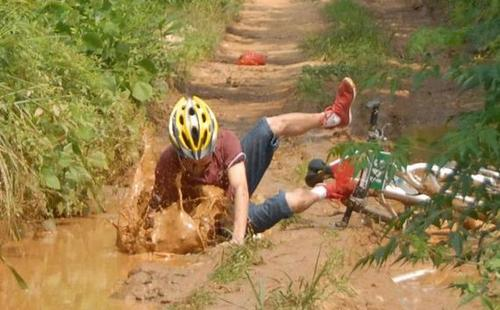fall: (136, 73, 369, 259)
